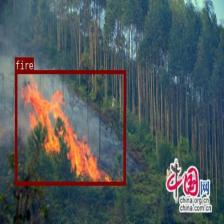fire: (15, 70, 125, 184)
